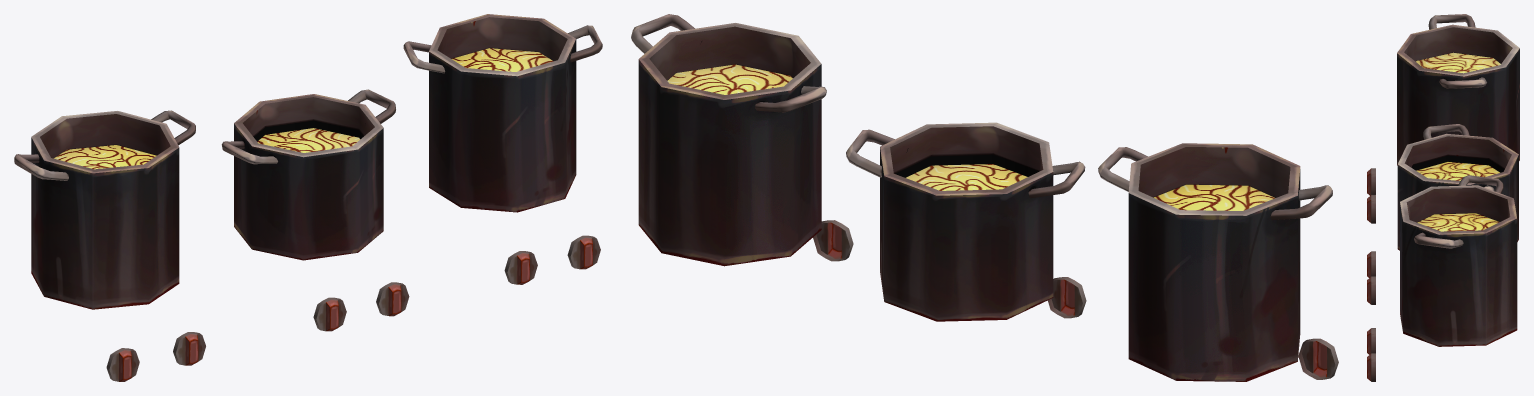
File: kitchen props.fbx
3 renders of one model, left to right at view 1: azimuth 30°, elevation 25°; view 2: azimuth 150°, elevation 25°; view 3: azimuth 270°, elevation 25°, orthographic. The views are drawn at different scales.
Parts seen in each view (by area): view 1: polySurface1613, polySurface1619, polySurface1614, polySurface1606, polySurface1616, polySurface1617, polySurface1620, polySurface1615, polySurface1618; view 2: polySurface1613, polySurface1619, polySurface1614, polySurface1620, polySurface1615, polySurface1617; view 3: polySurface1613, polySurface1619, polySurface1614, polySurface1618, polySurface1606, polySurface1616, polySurface1620, polySurface1615, polySurface1617.
Part boxes in pixels (x1=…): polySurface1613: x1=403, y1=14, x2=602, y2=212; polySurface1619: x1=14, y1=110, x2=195, y2=309; polySurface1614: x1=221, y1=89, x2=395, y2=260; polySurface1606: x1=567, y1=235, x2=600, y2=269; polySurface1616: x1=376, y1=282, x2=409, y2=316; polySurface1617: x1=313, y1=297, x2=346, y2=331; polySurface1620: x1=106, y1=348, x2=139, y2=381; polySurface1615: x1=504, y1=251, x2=537, y2=284; polySurface1618: x1=173, y1=332, x2=205, y2=365; polySurface1613: x1=631, y1=14, x2=826, y2=266; polySurface1619: x1=1098, y1=143, x2=1332, y2=381; polySurface1614: x1=846, y1=122, x2=1085, y2=321; polySurface1620: x1=1298, y1=338, x2=1338, y2=379; polySurface1615: x1=813, y1=220, x2=853, y2=261; polySurface1617: x1=1047, y1=277, x2=1086, y2=318; polySurface1613: x1=1400, y1=175, x2=1517, y2=346; polySurface1619: x1=1397, y1=14, x2=1519, y2=165; polySurface1614: x1=1397, y1=124, x2=1518, y2=250; polySurface1618: x1=1367, y1=194, x2=1375, y2=223; polySurface1606: x1=1367, y1=353, x2=1375, y2=381; polySurface1616: x1=1367, y1=276, x2=1375, y2=304; polySurface1620: x1=1367, y1=168, x2=1375, y2=195; polySurface1615: x1=1367, y1=328, x2=1375, y2=354; polySurface1617: x1=1367, y1=251, x2=1375, y2=277.
Size of the model in its own units: 5.71 by 1.89 by 1.62.
Materials: 1 (1 with a texture image).
